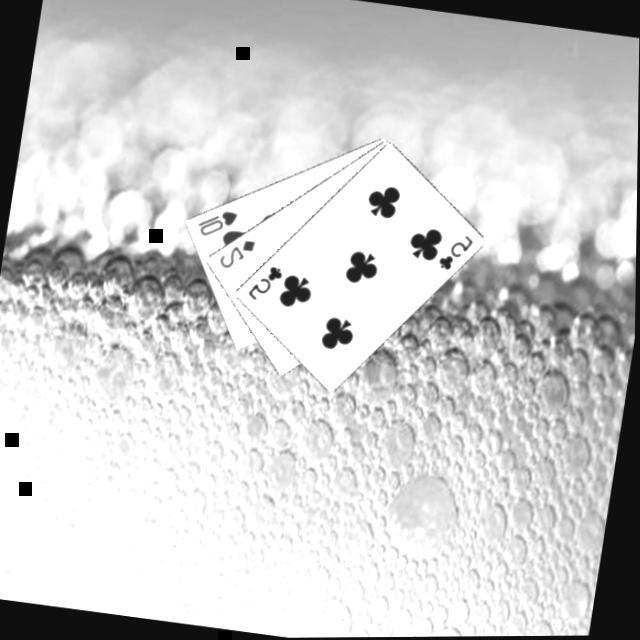10H: (191, 204, 240, 244)
2D: (213, 233, 257, 276)
5C: (431, 230, 476, 278), (241, 261, 285, 308)
